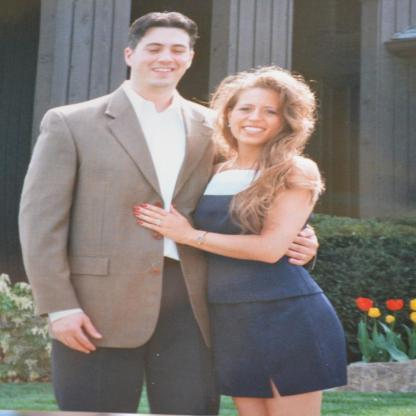face: (132, 27, 192, 88), (231, 85, 285, 145)
